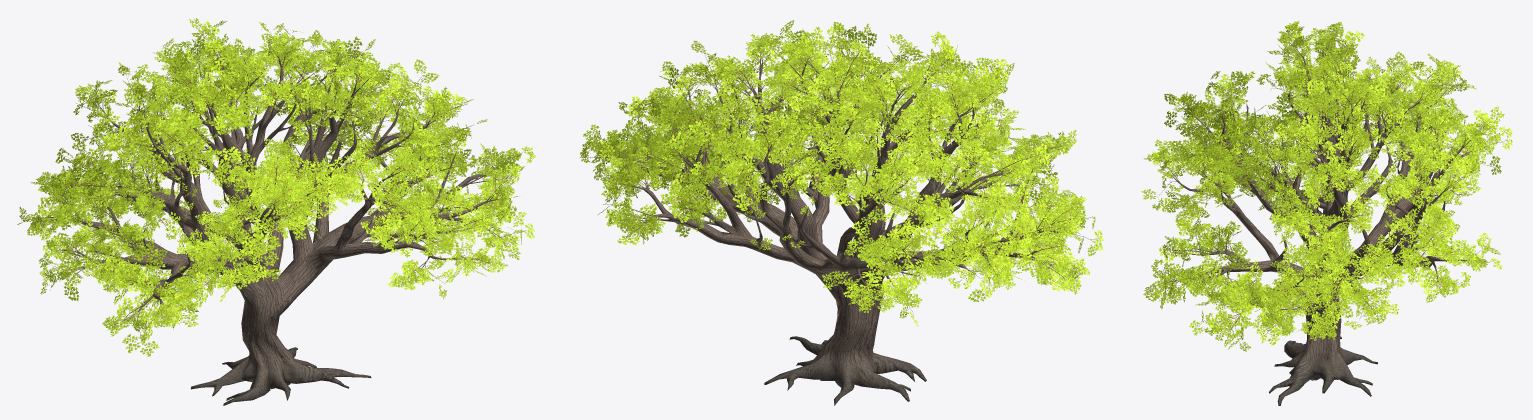
Rendered from Triadica_Spring_LOD0.glb.
3 renders of one model, left to right at view 1: azimuth 30°, elevation 25°; view 2: azimuth 150°, elevation 25°; view 3: azimuth 270°, elevation 25°, orthographic. The views are drawn at different scales.
Parts seen in each view (by area): view 1: Triadica_Spring_Shoots_LOD0, Triadica_Wood_LOD0; view 2: Triadica_Spring_Shoots_LOD0, Triadica_Wood_LOD0; view 3: Triadica_Spring_Shoots_LOD0, Triadica_Wood_LOD0.
Boxes of the visible parts, x1,y1,x2,y2 form: Triadica_Spring_Shoots_LOD0: (17, 18, 535, 356); Triadica_Wood_LOD0: (22, 30, 516, 405); Triadica_Spring_Shoots_LOD0: (580, 20, 1103, 326); Triadica_Wood_LOD0: (580, 36, 1093, 405); Triadica_Spring_Shoots_LOD0: (1141, 21, 1512, 351); Triadica_Wood_LOD0: (1151, 29, 1505, 405).
Size of the model in its own units: 16.89 by 11.5 by 12.25.
Materials: 2 (2 with a texture image).
